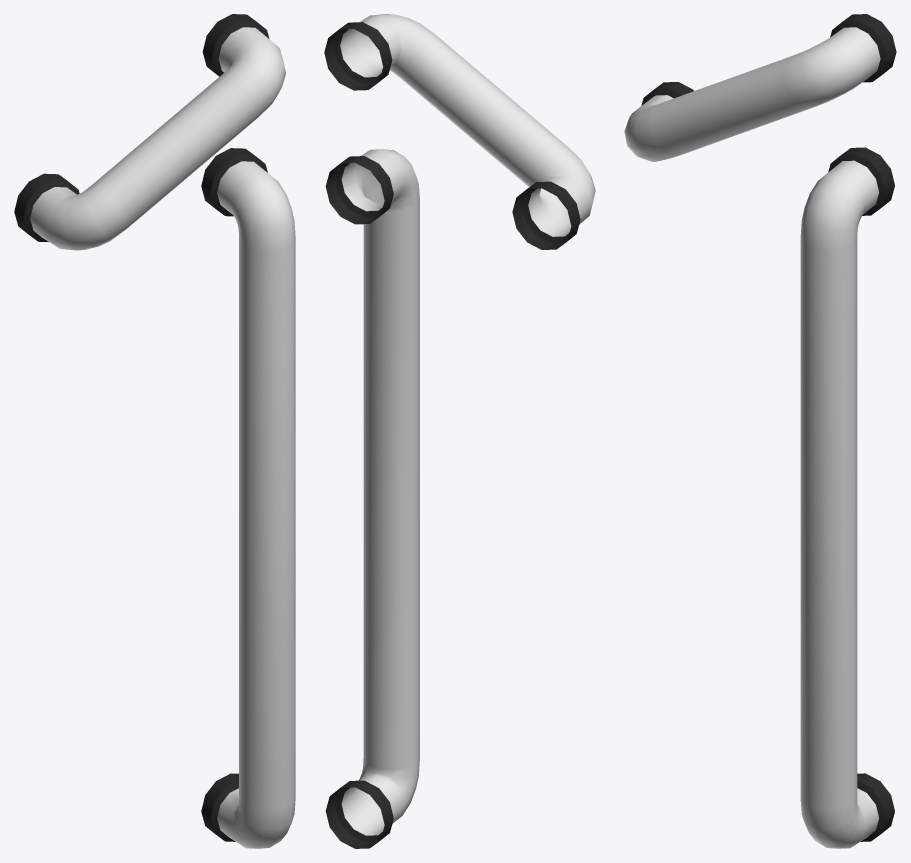
The model's file is LettersNeon01_1.FBX.
The picture shows the model from 3 angles, left to right: view 1: azimuth 30°, elevation 25°; view 2: azimuth 150°, elevation 25°; view 3: azimuth 330°, elevation 25°; orthographic projection.
Parts seen in each view (by area): view 1: LettersNeon01_1; view 2: LettersNeon01_1; view 3: LettersNeon01_1.
Part boxes in pixels (x1,y1,x2,y2): LettersNeon01_1: (14,14,295,848); LettersNeon01_1: (324,14,595,848); LettersNeon01_1: (624,14,896,848).
Size of what is drawn, in the model's own units: 0.152 by 0.4816 by 0.054.
